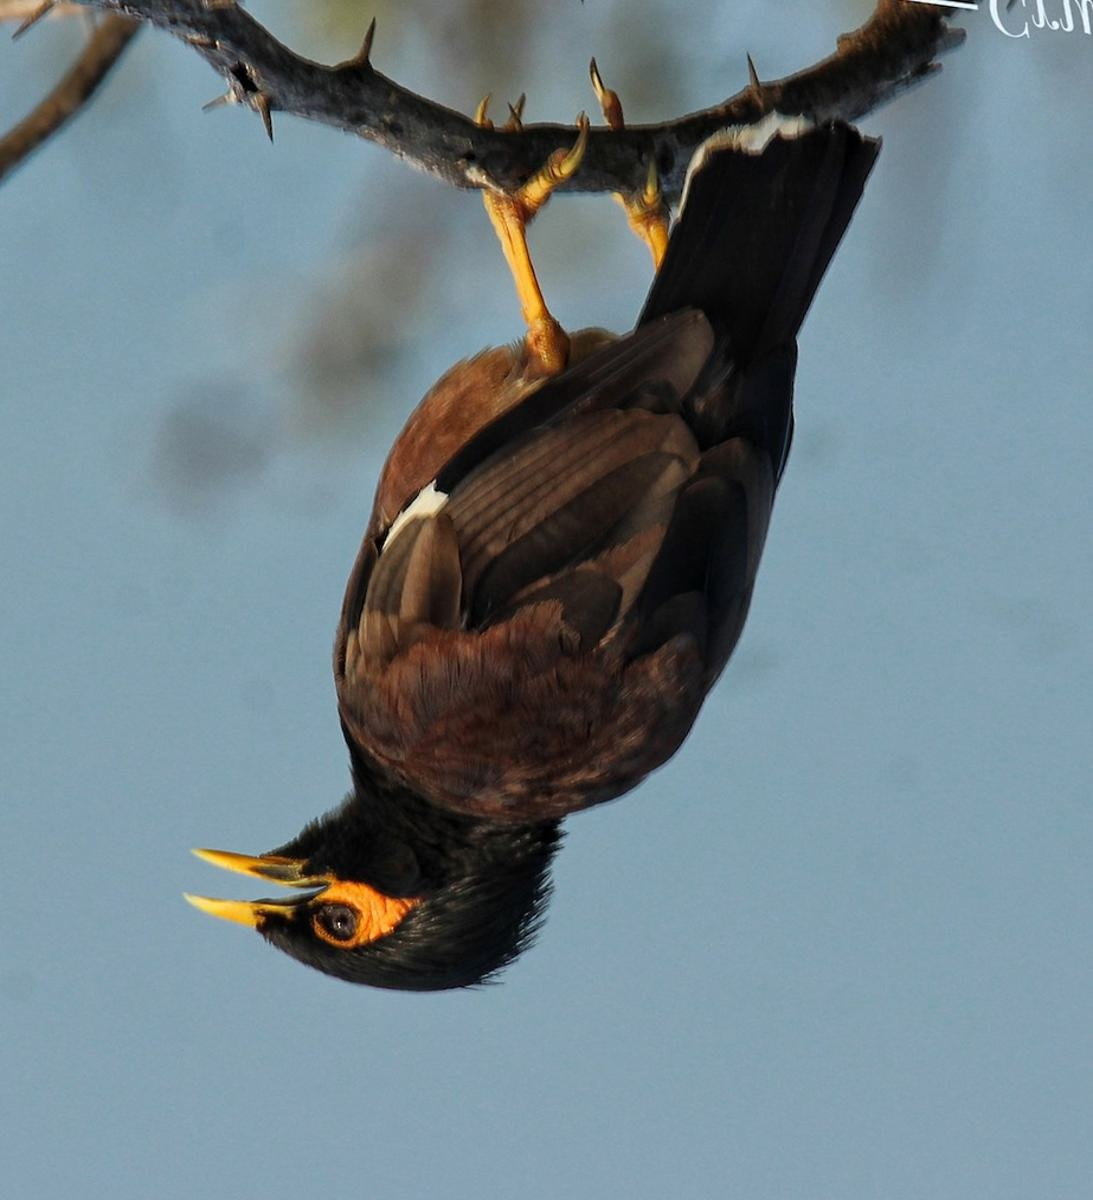myna: (130, 108, 840, 1049)
